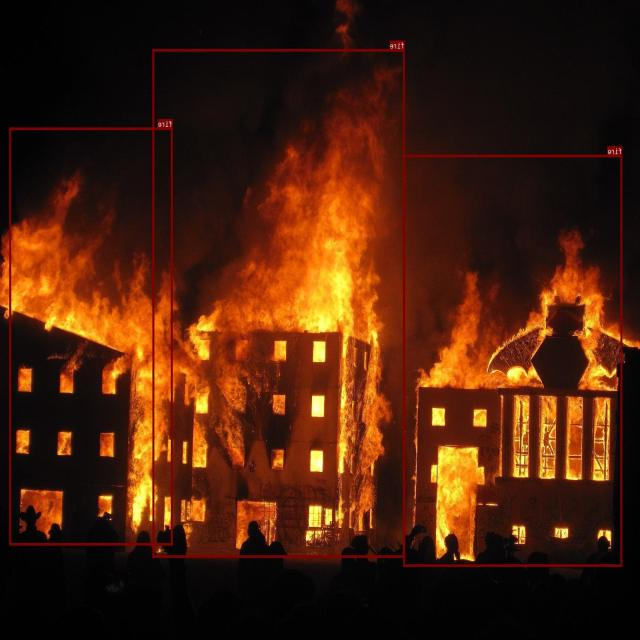fire: (153, 49, 405, 556), (403, 155, 622, 566), (10, 127, 173, 545)
